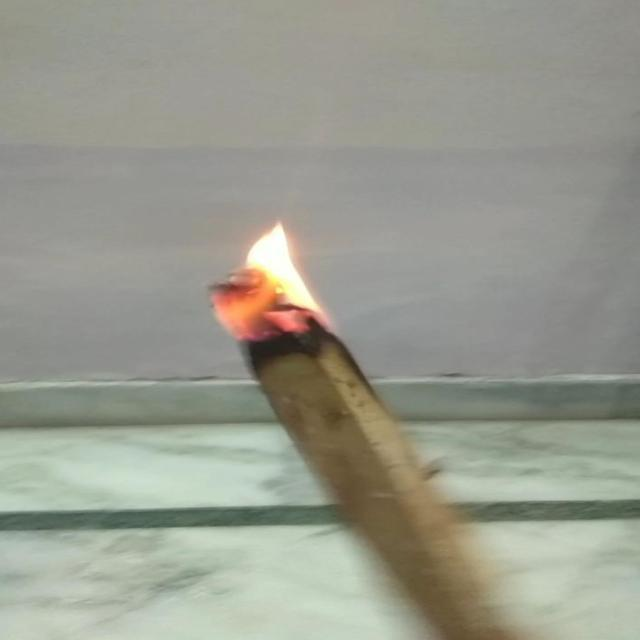smoke: (209, 220, 332, 337)
